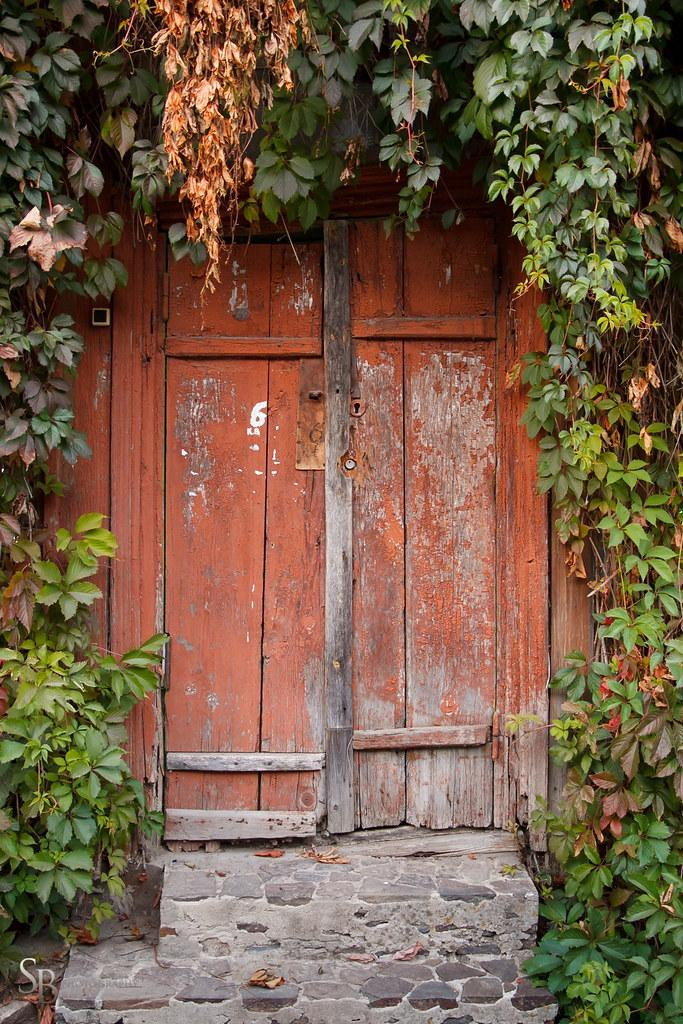door: (129, 196, 550, 848)
